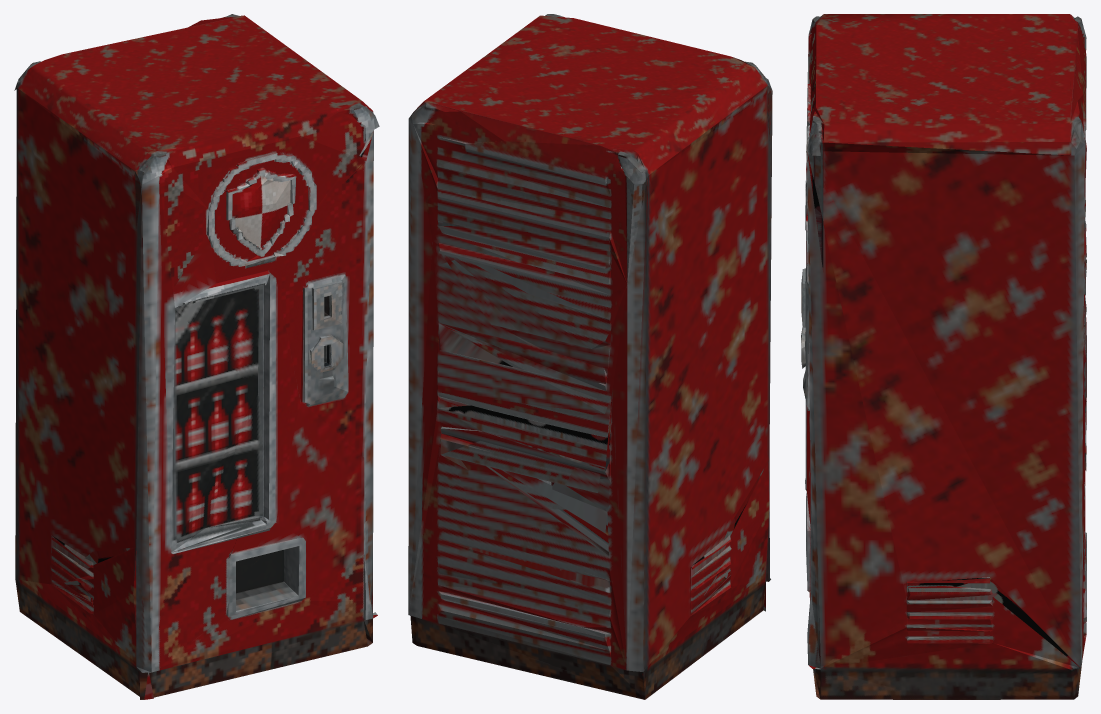
File: Meshy_AI_model.glb
The picture shows the model from 3 angles, left to right: view 1: azimuth 30°, elevation 25°; view 2: azimuth 150°, elevation 25°; view 3: azimuth 270°, elevation 25°; orthographic projection. The views are drawn at different scales.
Parts seen in each view (by area): view 1: output_unwrapped; view 2: output_unwrapped; view 3: output_unwrapped.
Part boxes in pixels (bbox=[...]): output_unwrapped: bbox=[14, 14, 379, 699]; output_unwrapped: bbox=[408, 14, 772, 699]; output_unwrapped: bbox=[801, 14, 1086, 699].
Size of the model in its own units: 0.9084 by 1.9 by 0.8596.
Materials: 1 (1 with a texture image).
